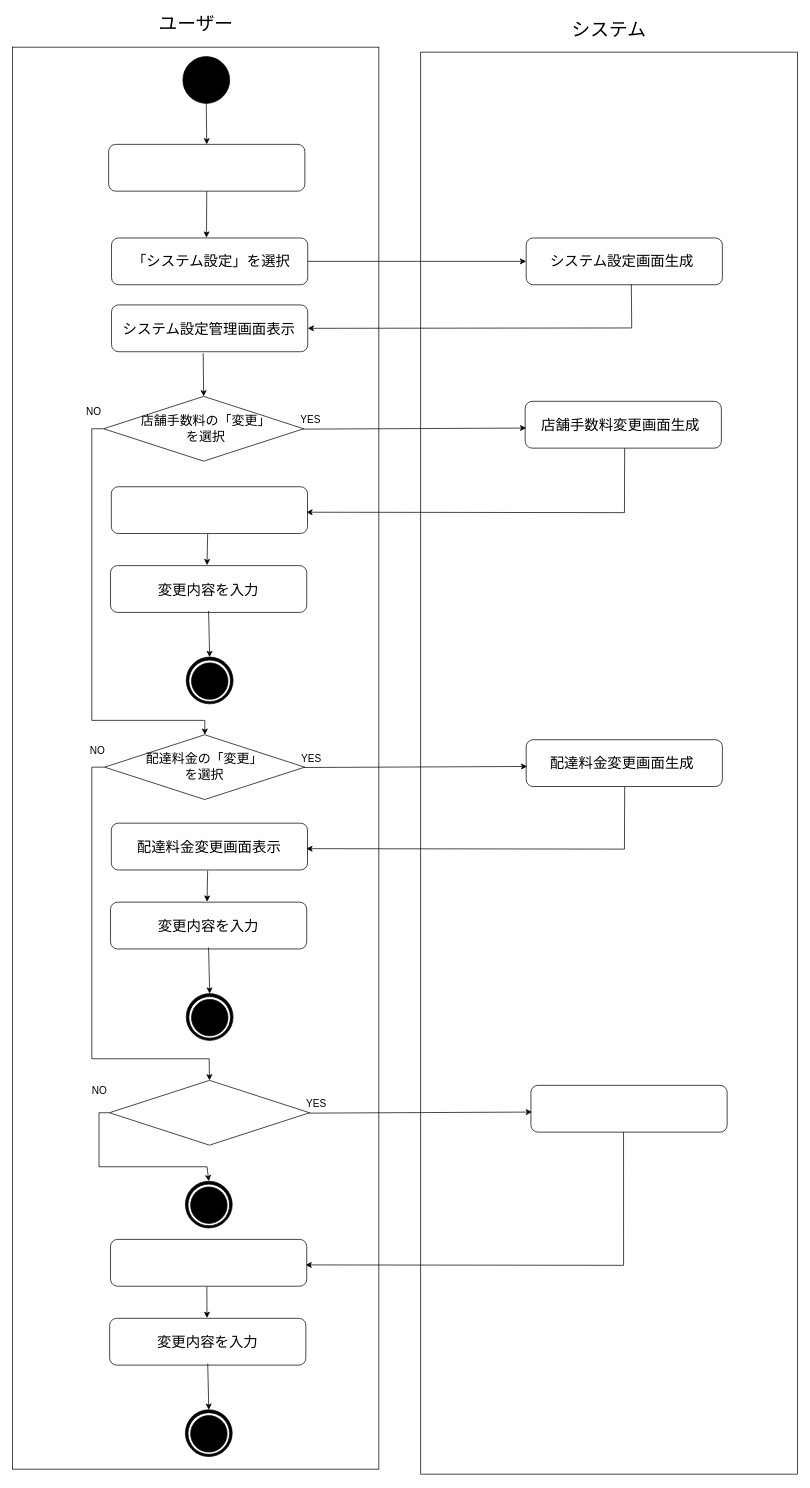
This 810x1488 diagram has some shape labels left out. Each missing label, with the centre of its shape:
"利用規約更新 画面生成" belongs at pixel 628 1108.
"利用規約更新 画面表示" belongs at pixel 208 1262.
"利用規約更新を選択" belongs at pixel 209 1112.
"店舗手数料変更画面 画面表示" belongs at pixel 209 510.
"運営管理画面表示" belongs at pixel 206 167.
